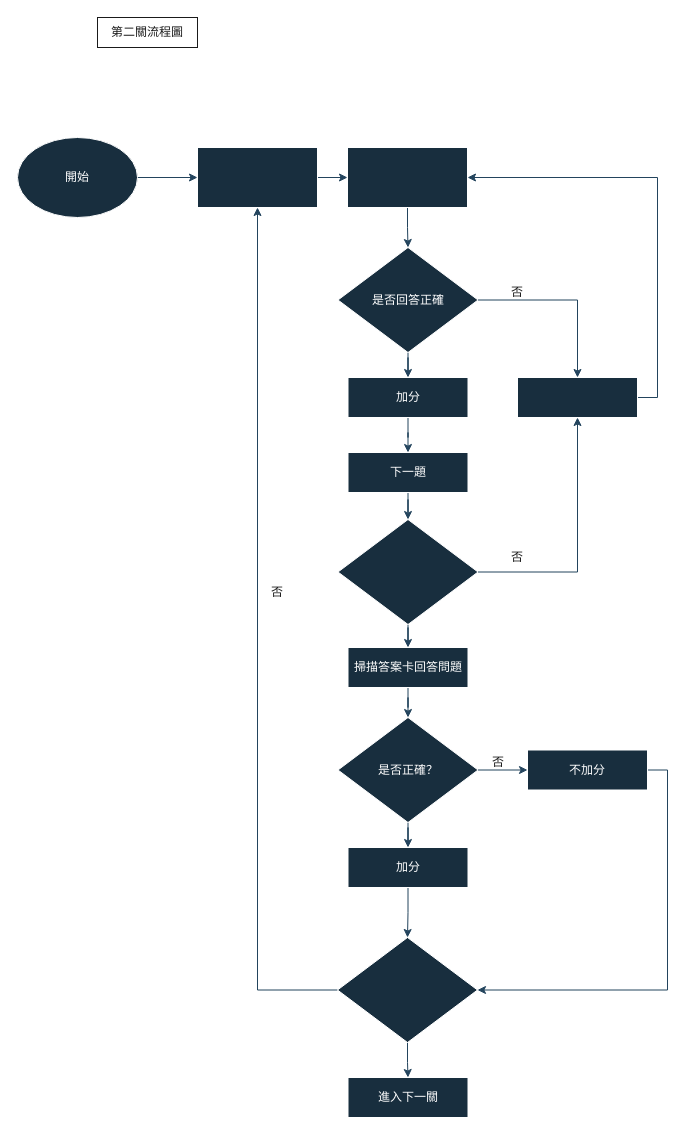
Image size: 693x1135. Some labels were removed from this diagram. Here are the shapes that lost their labels. From the top down, the centre of each, then its label:
the point at 257,177: 啟動相機
the point at 407,177: 看題回答問題
the point at 577,397: 繼續遊戲
the point at 407,571: 是否回答道最後？
the point at 407,989: 成績是否超過三題？
